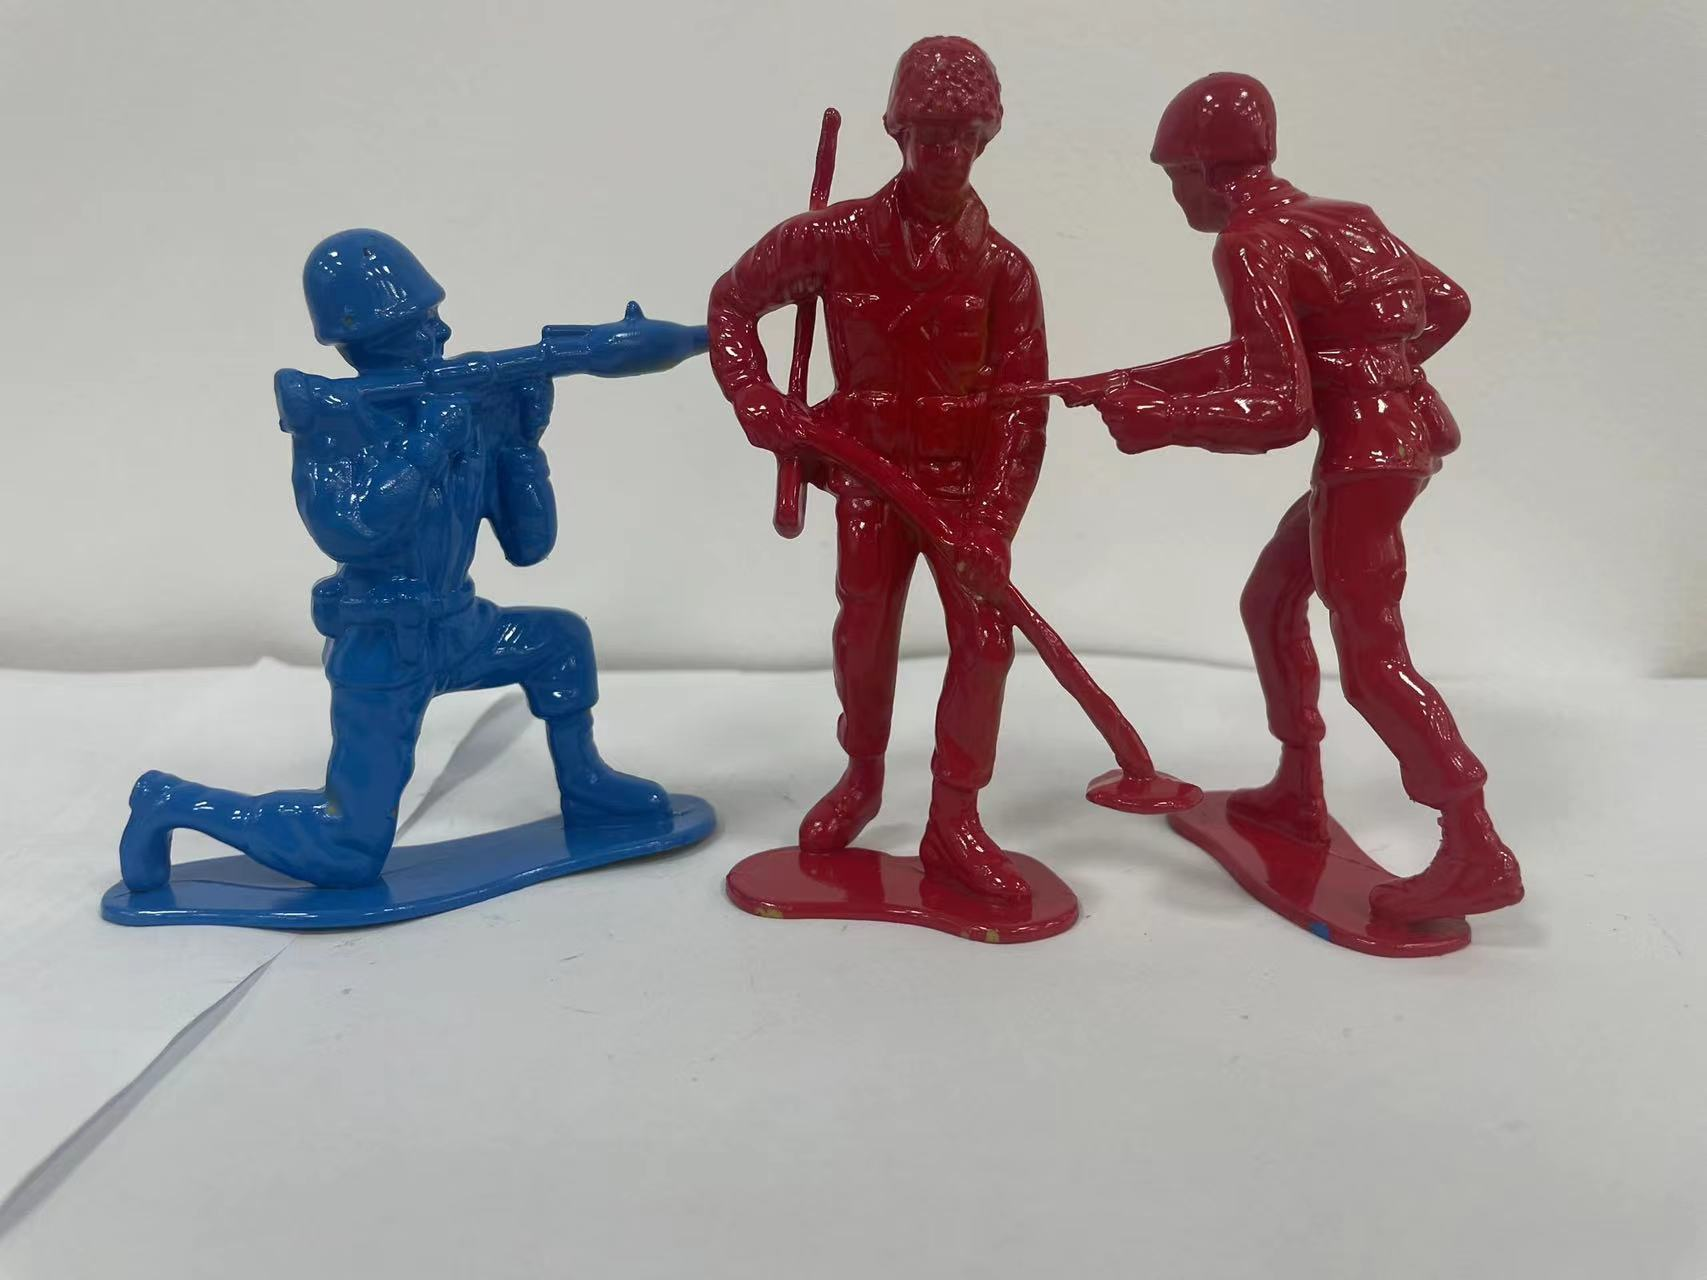blue: (79, 160, 715, 948)
red: (1091, 61, 1544, 1011), (710, 26, 1120, 964)
